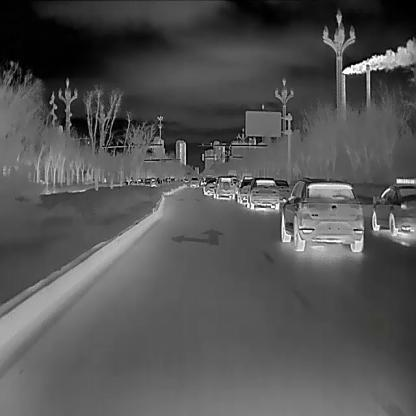car: (280, 175, 364, 252), (371, 177, 415, 236), (246, 176, 280, 211), (235, 175, 255, 205), (212, 176, 236, 199), (273, 179, 291, 201), (203, 178, 219, 195), (189, 176, 199, 187)
